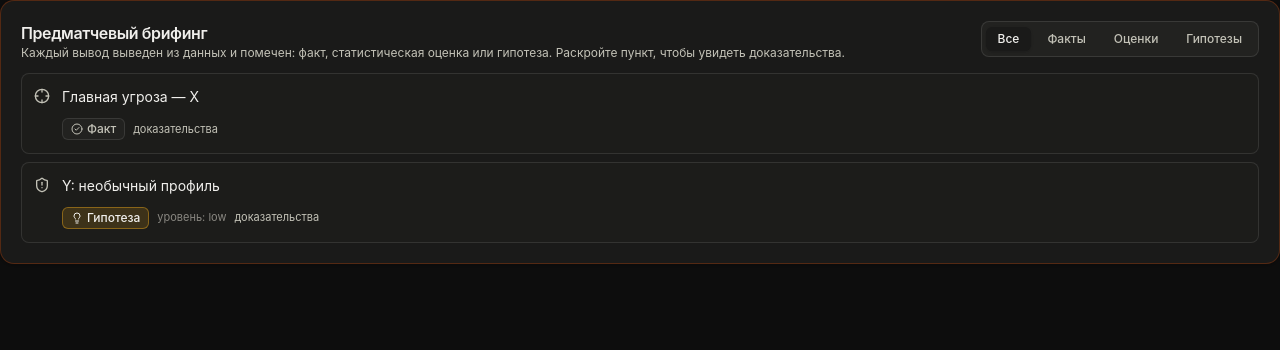
it: Briefing › reveals evidence on demand
Click the button "доказательства" below "Главная угроза — X": (176, 129) [133,120,218,137]
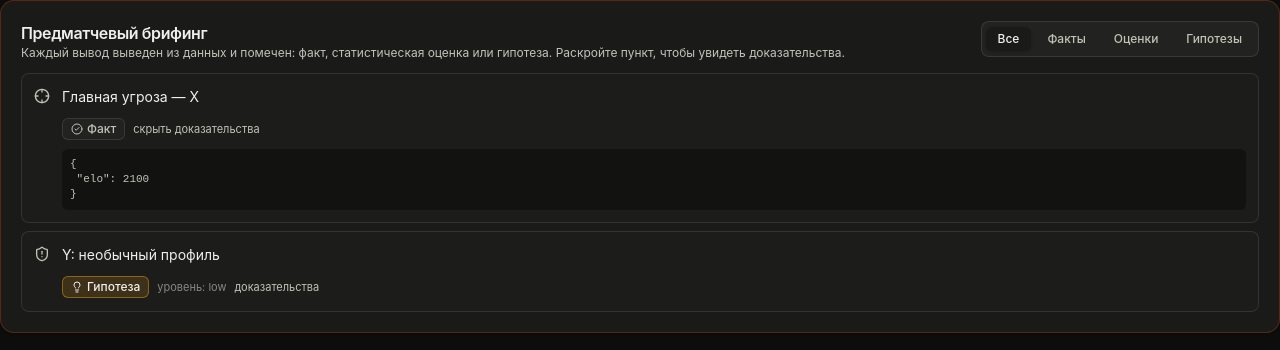
Expected: the text "{ \"elo\": 2100 }" is shown, [62,149,1246,210]
